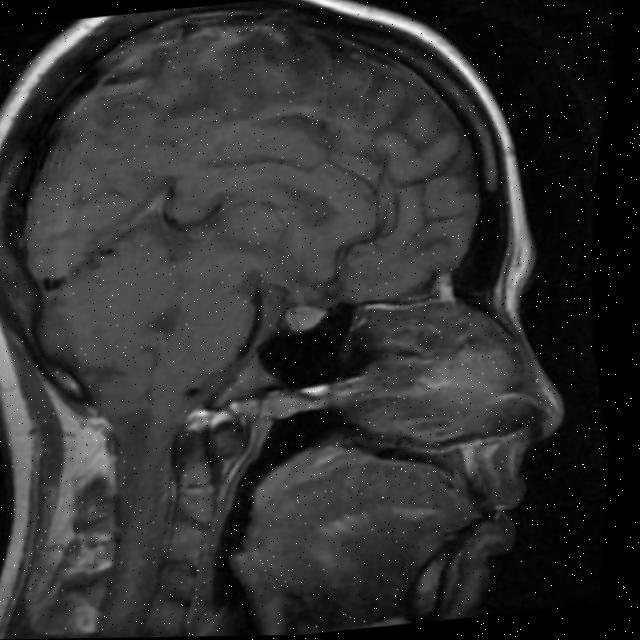Pituitary: (280, 302, 332, 335)
